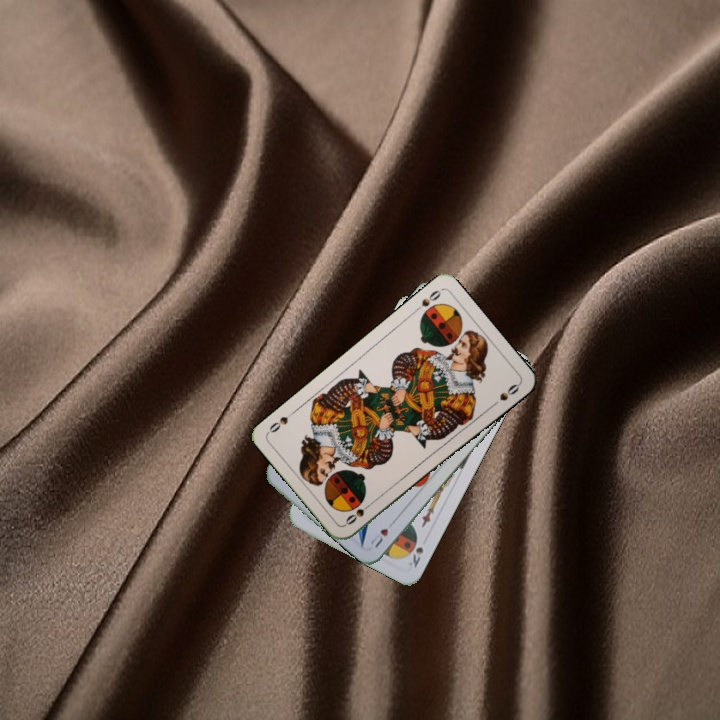HU: (365, 516, 398, 550)
SK: (404, 543, 426, 570)
SO: (341, 498, 375, 528), (410, 286, 443, 316)
